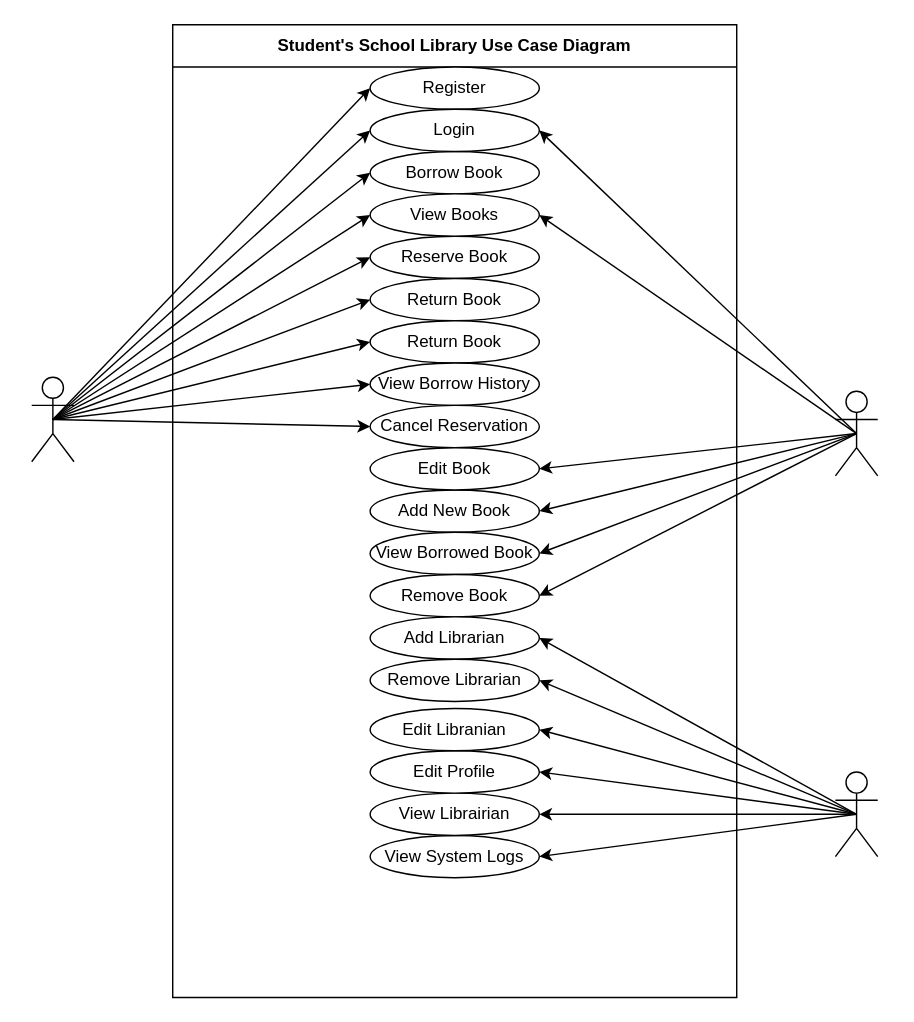
This 914x1022 diagram has some shape labels left out. Here are the shapes that lost their labels. From the top down, the centre of each, then its label:
At point (52, 419): "Student".
At point (856, 433): "Librarian".
At point (856, 814): "Admin".
